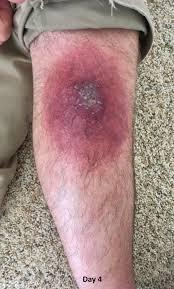Spider: (43, 66, 130, 157)
